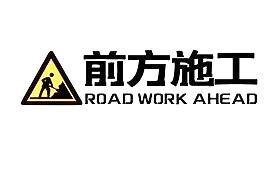sign: (20, 46, 260, 109)
